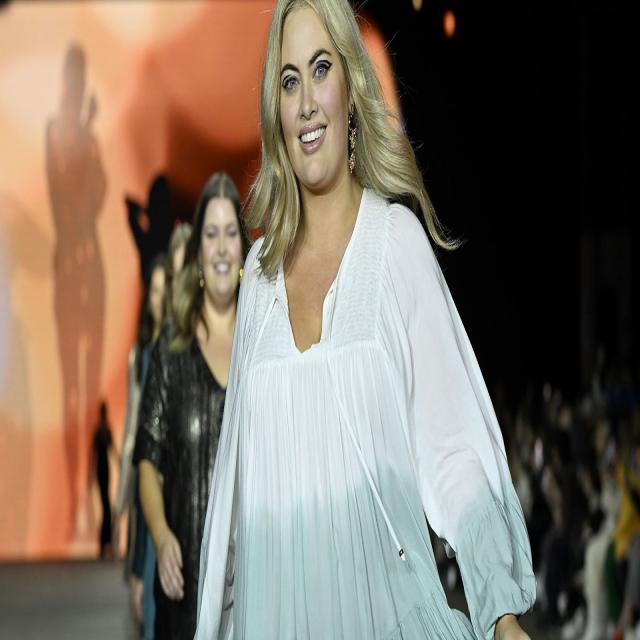direk: (237, 6, 536, 640), (142, 177, 252, 613)
